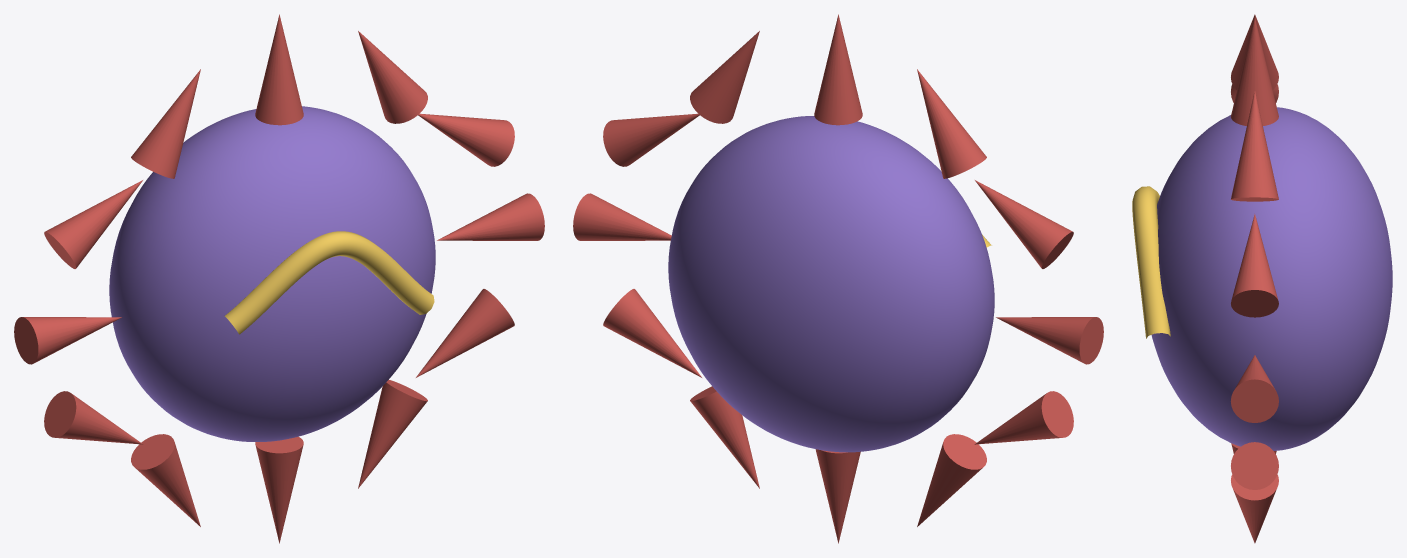
Rendered from bio-p1-virus.glb.
The picture shows the model from 3 angles, left to right: view 1: azimuth 30°, elevation 25°; view 2: azimuth 150°, elevation 25°; view 3: azimuth 270°, elevation 25°; orthographic projection.
Parts seen in each view (by area): view 1: virus-capsid-core, genetic-material-inside, virus-surface-spike-3, virus-surface-spike-5, virus-surface-spike-11, virus-surface-spike-0, virus-surface-spike-6, virus-surface-spike-4, virus-surface-spike-10, virus-surface-spike-2, virus-surface-spike-8, virus-surface-spike-7 (+2 smaller); view 2: virus-capsid-core, virus-surface-spike-3, virus-surface-spike-5, virus-surface-spike-11, virus-surface-spike-6, virus-surface-spike-4, virus-surface-spike-0, virus-surface-spike-2, virus-surface-spike-8, virus-surface-spike-7, virus-surface-spike-1, virus-surface-spike-10 (+1 smaller); view 3: virus-capsid-core, genetic-material-inside, virus-surface-spike-2, virus-surface-spike-1, virus-surface-spike-3, virus-surface-spike-0, virus-surface-spike-11, virus-surface-spike-10, virus-surface-spike-4.
Part boxes in pixels (left/top/right/bottom): virus-capsid-core: left=109, top=106, right=435, bottom=441; genetic-material-inside: left=224, top=231, right=434, bottom=334; virus-surface-spike-3: left=255, top=14, right=303, bottom=125; virus-surface-spike-5: left=44, top=180, right=142, bottom=268; virus-surface-spike-11: left=416, top=289, right=514, bottom=377; virus-surface-spike-0: left=437, top=193, right=544, bottom=240; virus-surface-spike-6: left=14, top=317, right=121, bottom=364; virus-surface-spike-4: left=131, top=69, right=200, bottom=178; virus-surface-spike-10: left=358, top=380, right=427, bottom=488; virus-surface-spike-2: left=358, top=31, right=427, bottom=123; virus-surface-spike-8: left=131, top=434, right=200, bottom=526; virus-surface-spike-7: left=44, top=391, right=143, bottom=444; virus-capsid-core: left=668, top=116, right=994, bottom=452; virus-surface-spike-3: left=814, top=14, right=862, bottom=125; virus-surface-spike-5: left=975, top=180, right=1073, bottom=268; virus-surface-spike-11: left=603, top=289, right=701, bottom=377; virus-surface-spike-6: left=996, top=317, right=1103, bottom=364; virus-surface-spike-4: left=917, top=69, right=986, bottom=178; virus-surface-spike-0: left=573, top=193, right=671, bottom=240; virus-surface-spike-2: left=690, top=31, right=759, bottom=123; virus-surface-spike-8: left=917, top=434, right=986, bottom=526; virus-surface-spike-7: left=974, top=391, right=1073, bottom=444; virus-surface-spike-1: left=603, top=113, right=699, bottom=166; virus-surface-spike-10: left=690, top=386, right=759, bottom=488; virus-capsid-core: left=1151, top=107, right=1392, bottom=450; genetic-material-inside: left=1132, top=186, right=1170, bottom=338; virus-surface-spike-2: left=1231, top=90, right=1278, bottom=201; virus-surface-spike-1: left=1231, top=214, right=1278, bottom=317; virus-surface-spike-3: left=1231, top=17, right=1278, bottom=125; virus-surface-spike-0: left=1230, top=355, right=1278, bottom=422; virus-surface-spike-11: left=1231, top=442, right=1278, bottom=489; virus-surface-spike-10: left=1231, top=474, right=1278, bottom=543; virus-surface-spike-4: left=1231, top=14, right=1278, bottom=89.
Size of what is drawn, in the model's own units: 0.84 by 0.84 by 0.378.
